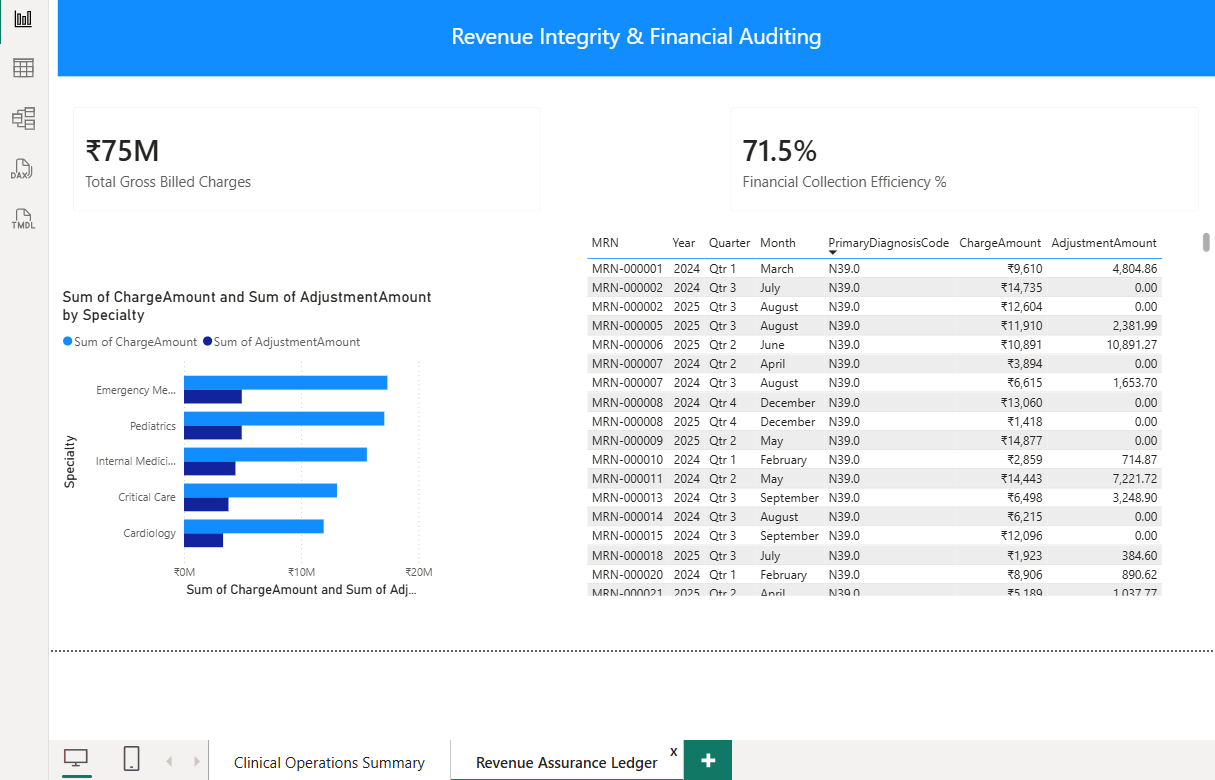

This screenshot's page, from the dashboard's own definition file:
{"tool":"powerbi","page":{"name":"Revenue Assurance Ledger","canvas":[1280,720],"ordinal":1},"visuals":[{"type":"shape","box":[9.6,0,1270.7,90.6],"z":0},{"type":"cardVisual","fields":{"Data":["Sum(Fact_Billing_Transactions.ChargeAmount)"]},"box":[9.6,107,547.5,149.6],"z":1},{"type":"cardVisual","fields":{"Data":["_Measures.Financial Collection Efficiency %"]},"box":[731.4,107,548.9,149.6],"z":2},{"type":"clusteredBarChart","fields":{"Category":["Dim_Providers.Specialty"],"Y":["Sum(Fact_Billing_Transactions.ChargeAmount)","Sum(Fact_Billing_Transactions.AdjustmentAmount)"]},"box":[9.6,322.5,417.2,344.4],"z":3},{"type":"tableEx","fields":{"Values":["Dim_Patients.MRN","Fact_Encounters.AdmitDateTime.Variation.Date Hierarchy.Year","Fact_Encounters.AdmitDateTime.Variation.Date Hierarchy.Quarter","Fact_Encounters.AdmitDateTime.Variation.Date Hierarchy.Month","Fact_Encounters.PrimaryDiagnosisCode","Fact_Billing_Transactions.ChargeAmount","Fact_Billing_Transactions.AdjustmentAmount"]},"box":[584.6,256.6,695.7,408.9],"z":4}]}

Visuals, with their boxes on the page's 1280x720 design canvas (x1, y1, x2, y2). These are canvas units, not pixel positions in the 1215x780 screenshot, which may show the page scaled, cropped or inside an application window:
shape: 10, 0, 1280, 91
cardVisual - Sum(Fact_Billing_Transactions.ChargeAmount): 10, 107, 557, 257
cardVisual - _Measures.Financial Collection Efficiency %: 731, 107, 1280, 257
clusteredBarChart - Dim_Providers.Specialty x Sum(Fact_Billing_Transactions.ChargeAmount): 10, 322, 427, 667
tableEx - Dim_Patients.MRN x Fact_Encounters.AdmitDateTime.Variation.Date Hierarchy.Year: 585, 257, 1280, 666
